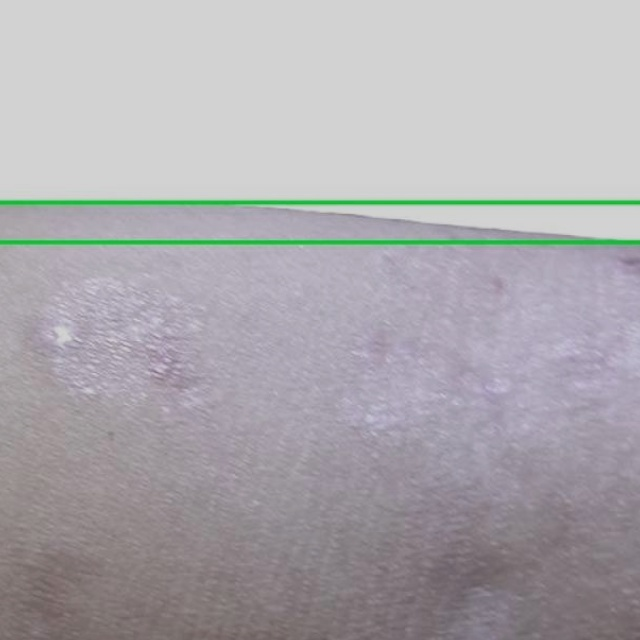Tinea Corporis: (0, 202, 639, 639), (0, 0, 639, 243)
